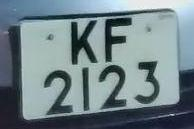1: (75, 64, 98, 114)
2: (35, 64, 81, 117), (95, 62, 131, 112)
3: (131, 53, 163, 110)
F: (99, 14, 140, 66)
K: (65, 18, 104, 67)
